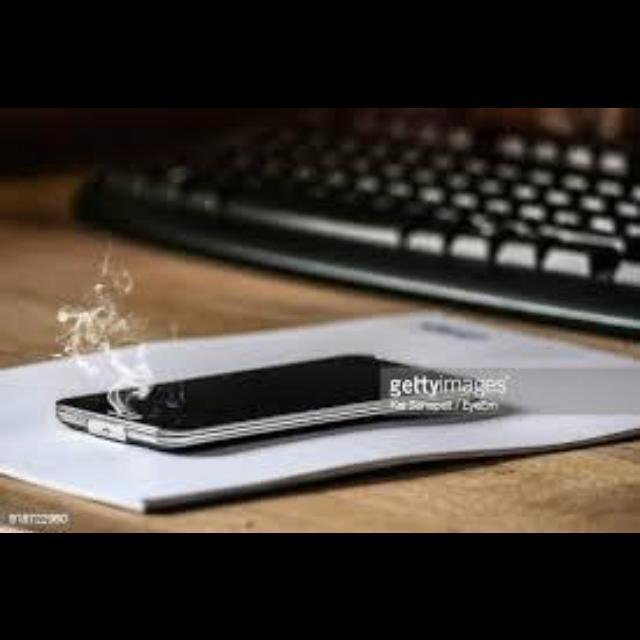Phone: (56, 352, 484, 448)
